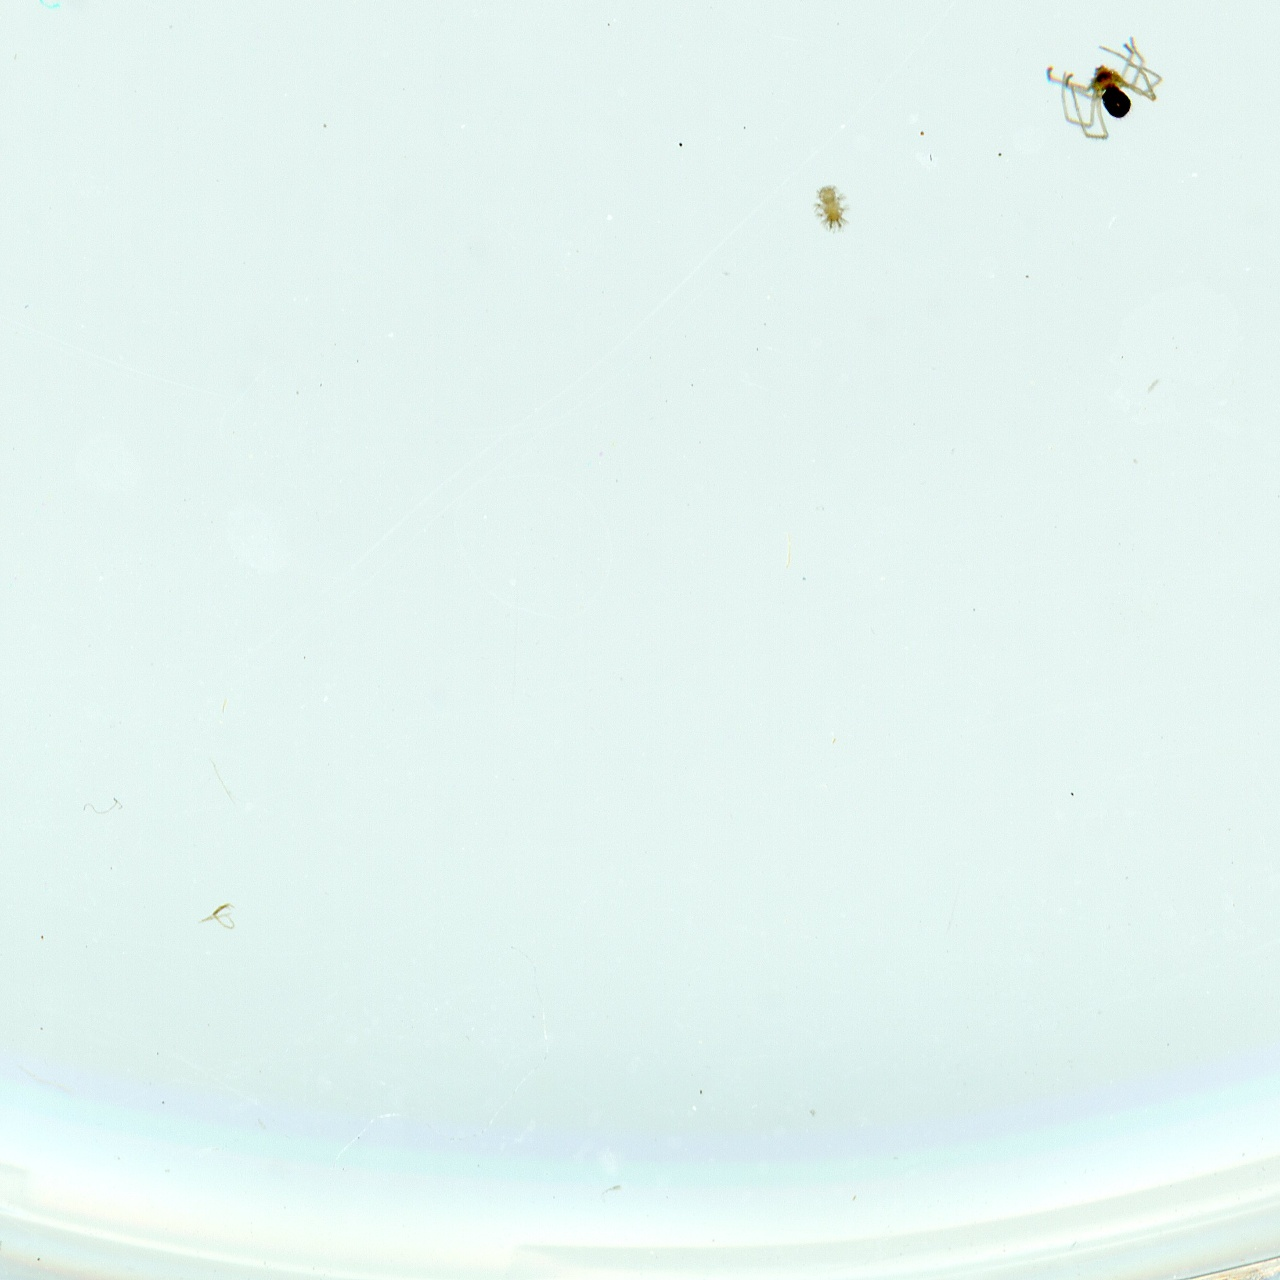arthropod: (1033, 14, 1179, 158), (808, 181, 854, 235)
